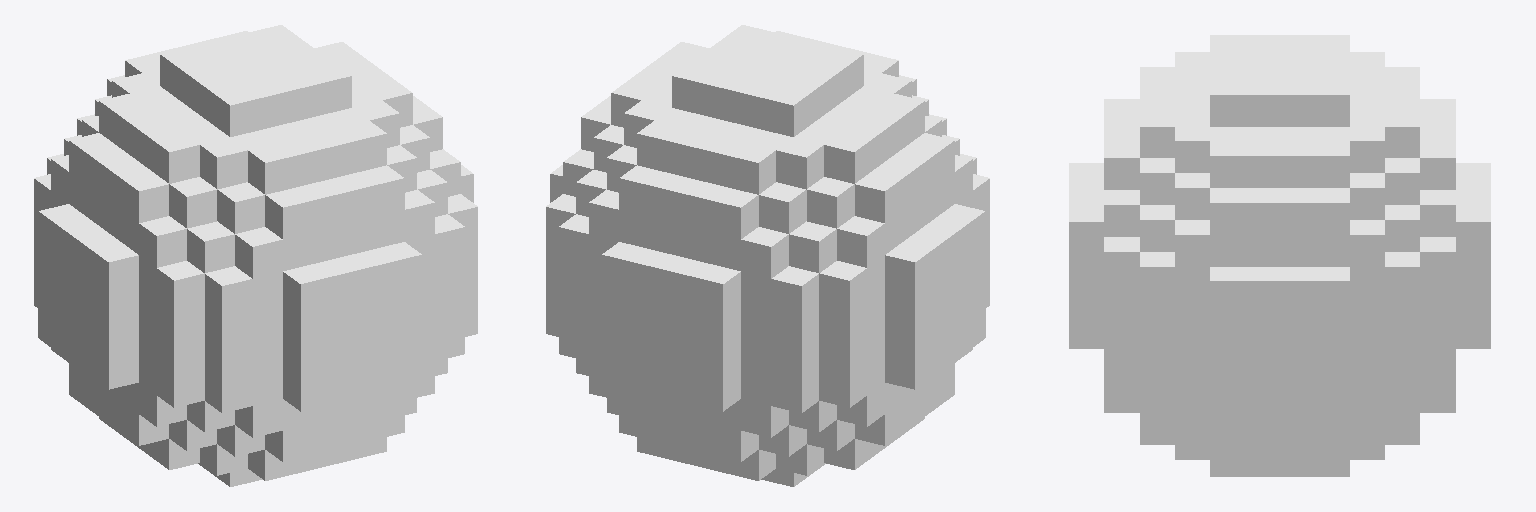
File: planetas-10-azulclaro.obj
The picture shows the model from 3 angles: view 1: azimuth 30°, elevation 25°; view 2: azimuth 150°, elevation 25°; view 3: azimuth 270°, elevation 25°; orthographic projection.
Parts seen in each view (by area): view 1: object 1; view 2: object 1; view 3: object 1.
Boxes of the visible parts, box(x1,y1,x2,y2) form: object 1: box(34, 25, 477, 486); object 1: box(546, 25, 989, 486); object 1: box(1069, 35, 1490, 476).
Bounding box in the file's own units: 1.2 × 1.2 × 1.2.